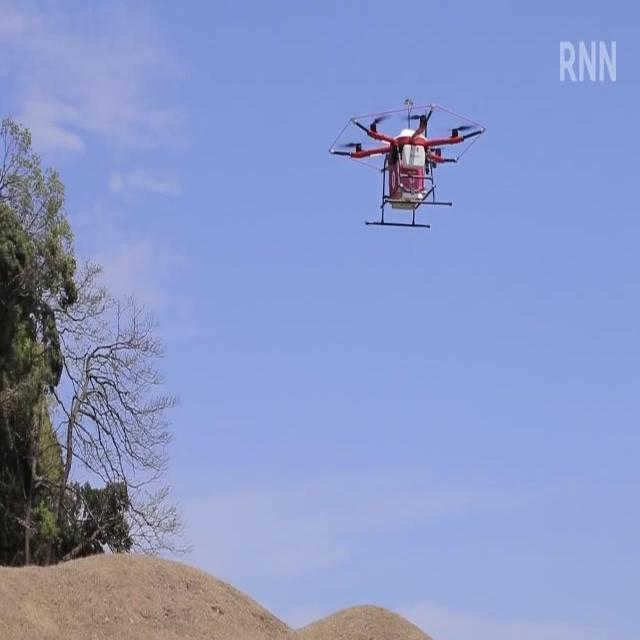drone: (324, 93, 489, 240)
